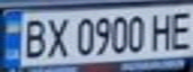0: (72, 14, 96, 56), (127, 11, 151, 53), (112, 12, 130, 55)
9: (93, 12, 115, 56)
B: (18, 15, 51, 60)
E: (166, 7, 193, 51)
H: (148, 9, 175, 52)
X: (42, 13, 72, 60)
